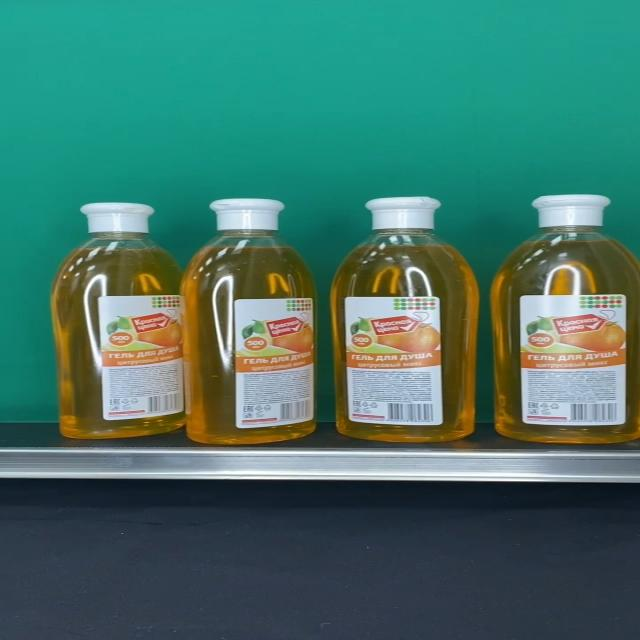Bottle: (491, 194, 640, 444), (331, 197, 479, 442), (180, 198, 316, 444), (52, 202, 187, 440)
Cap: (532, 195, 611, 228), (210, 199, 285, 232), (366, 198, 441, 230), (81, 203, 153, 234)
